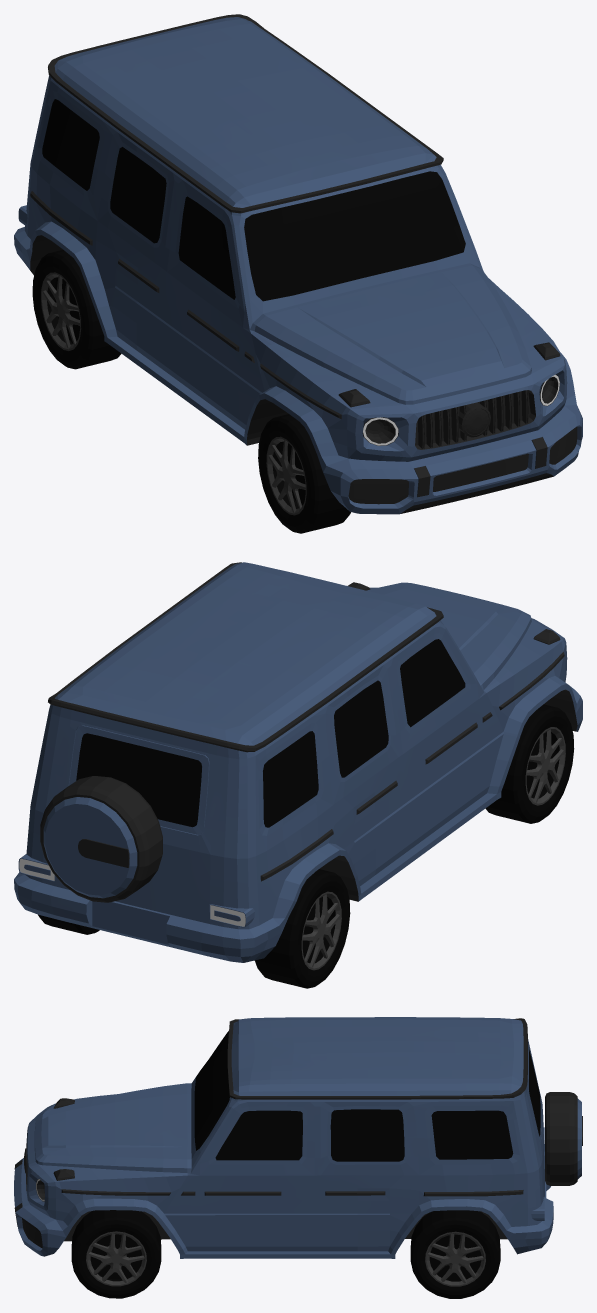
The model's file is Gelik.fbx.
The picture shows the model from 3 angles, top to bottom: view 1: azimuth 30°, elevation 25°; view 2: azimuth 150°, elevation 25°; view 3: azimuth 270°, elevation 25°; orthographic projection. The views are drawn at different scales.
Parts seen in each view (by area): view 1: Gelik; view 2: Gelik; view 3: Gelik.
Boxes of the visible parts, x1,y1,x2,y2 form: Gelik: [14, 14, 582, 533]; Gelik: [14, 562, 582, 988]; Gelik: [14, 1017, 582, 1298].
Size of the model in its own units: 1.35 by 3.32 by 1.32.
